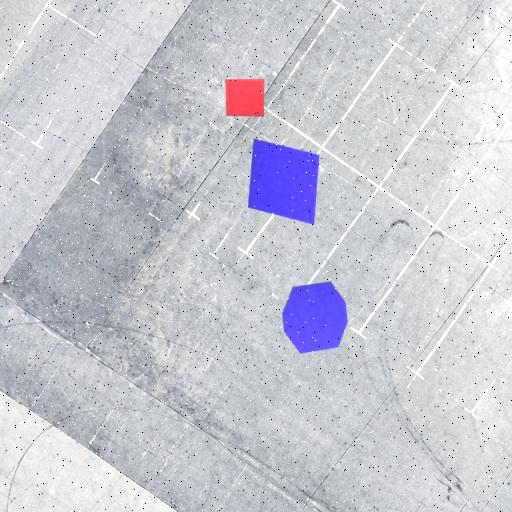BLUE_SQUARE: (247, 138, 320, 226)
RED_SQUARE: (225, 78, 265, 118)
